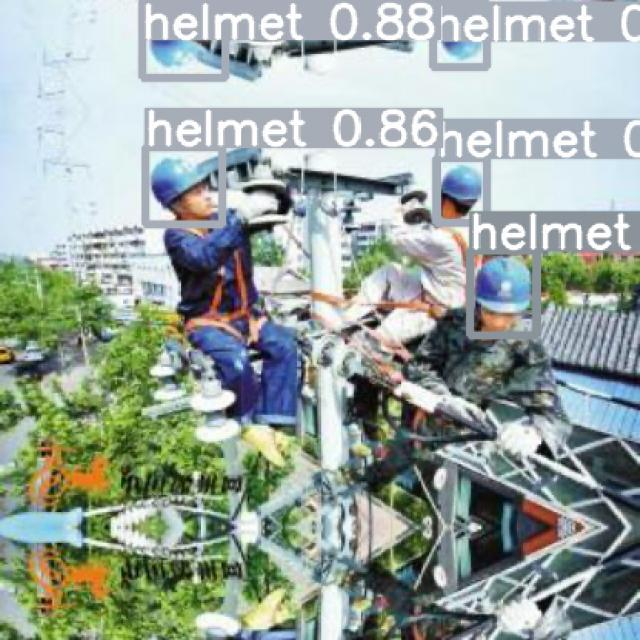Helmet: (474, 256, 531, 314), (150, 156, 209, 208)
